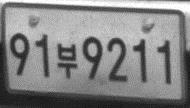1: (131, 37, 148, 85), (34, 33, 51, 78), (156, 38, 171, 86)
2: (105, 37, 128, 83)
9: (81, 36, 103, 80), (9, 33, 30, 76)
부: (55, 41, 78, 79)
